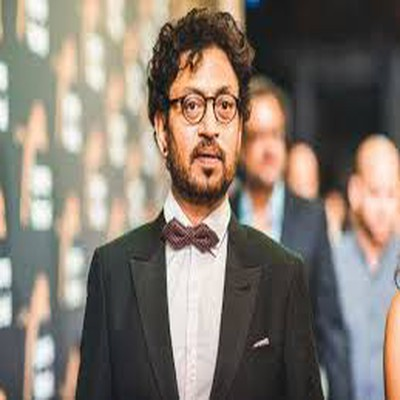eywear: (154, 81, 278, 148)
